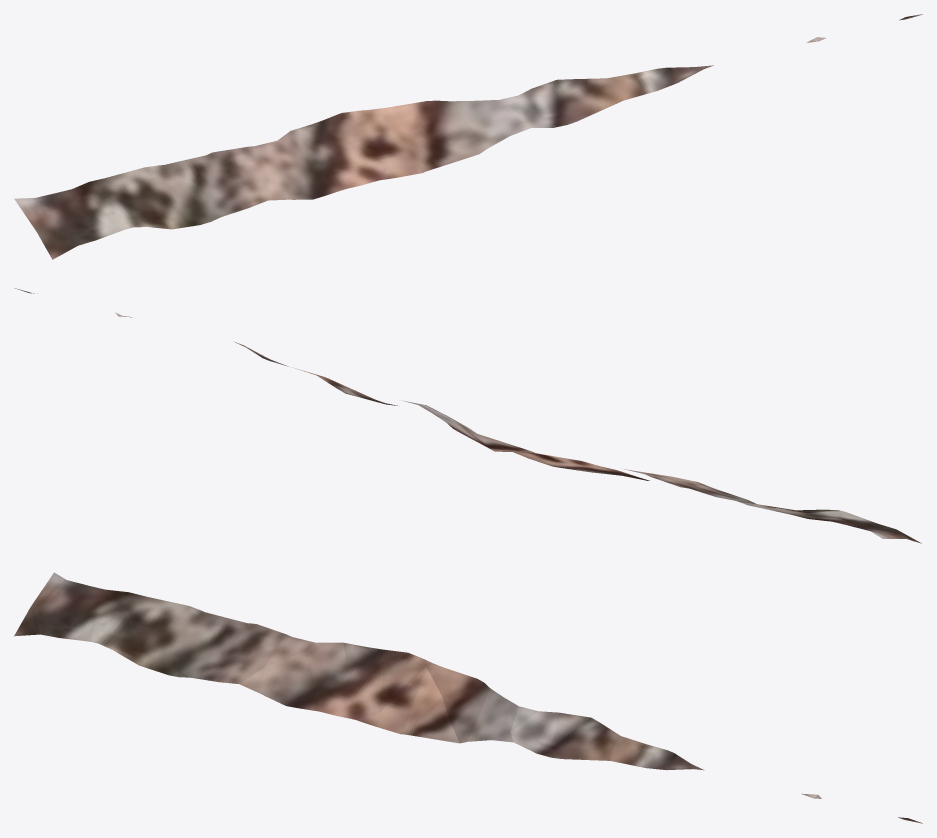
The picture shows the model from 3 angles, top to bottom: view 1: azimuth 30°, elevation 25°; view 2: azimuth 150°, elevation 25°; view 3: azimuth 330°, elevation 25°; orthographic projection. The views are drawn at different scales.
Bounding box in the file's own units: 1.67 × 0.0672 × 0.148.
Materials: 1 (1 with a texture image).
